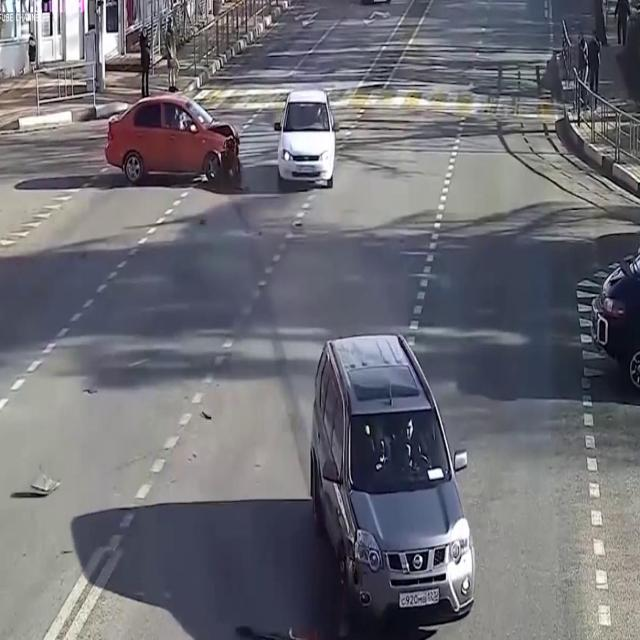accident: (233, 307, 494, 640), (99, 82, 257, 204)
